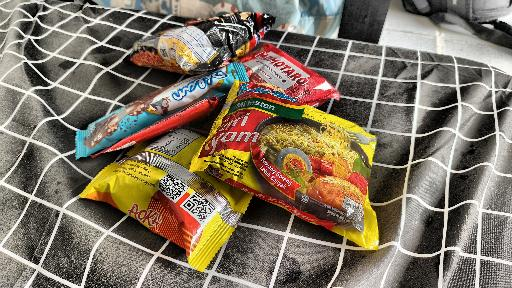dilan: (69, 71, 244, 150)
indomie: (217, 81, 408, 251)
